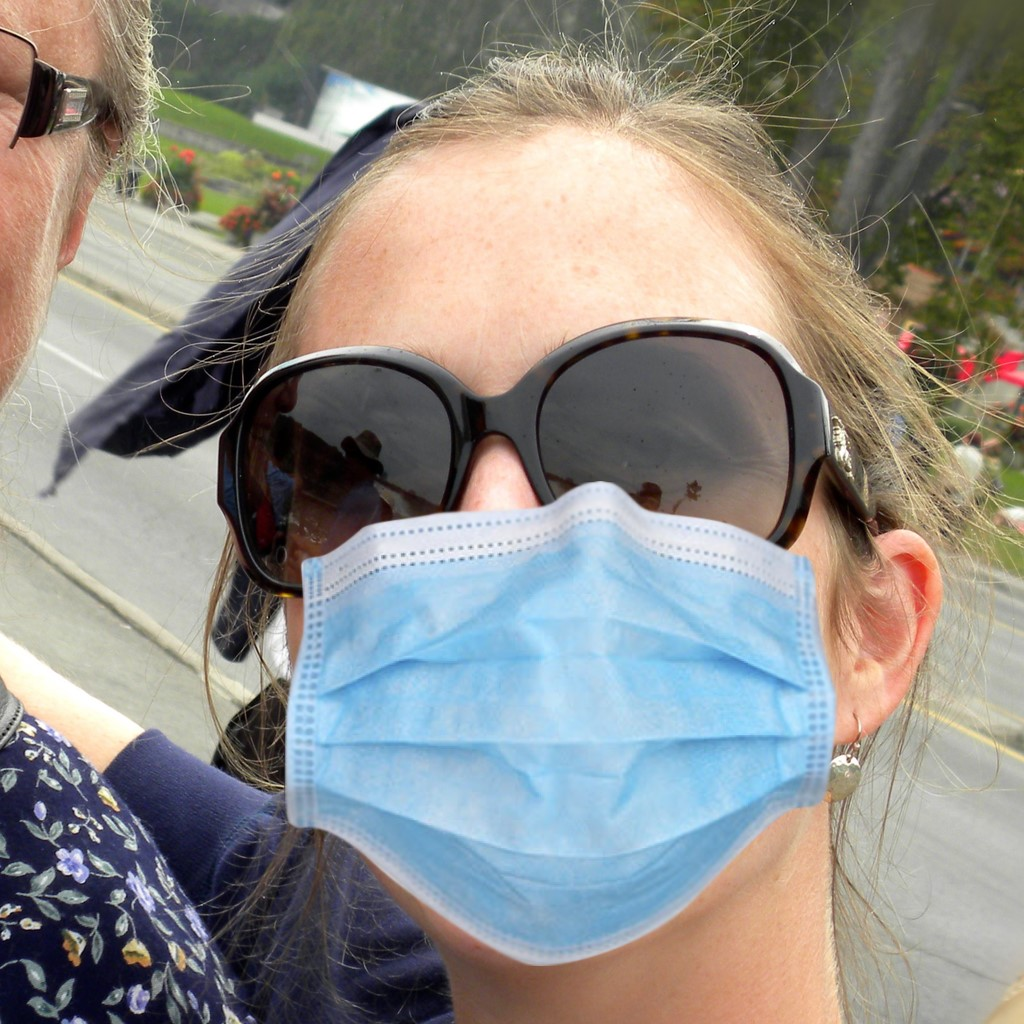con_mascara: (266, 116, 873, 946)
